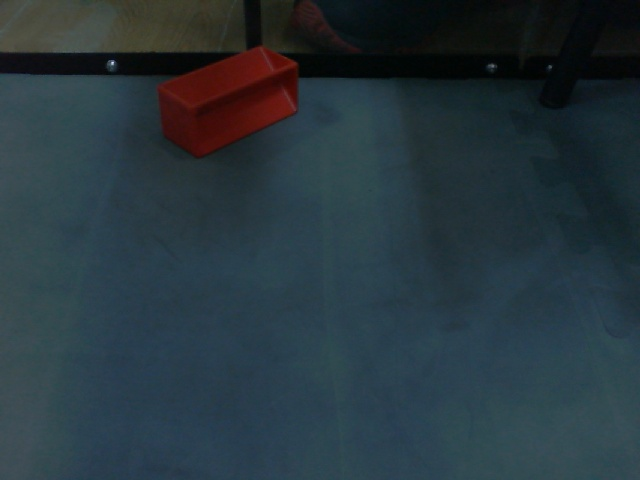RedSample: (153, 43, 303, 160)
